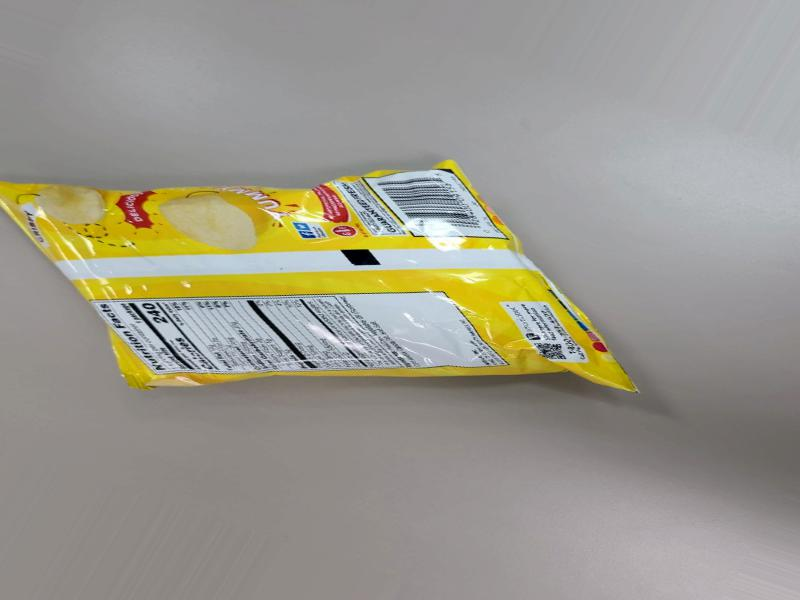lays: (78, 170, 648, 420)
